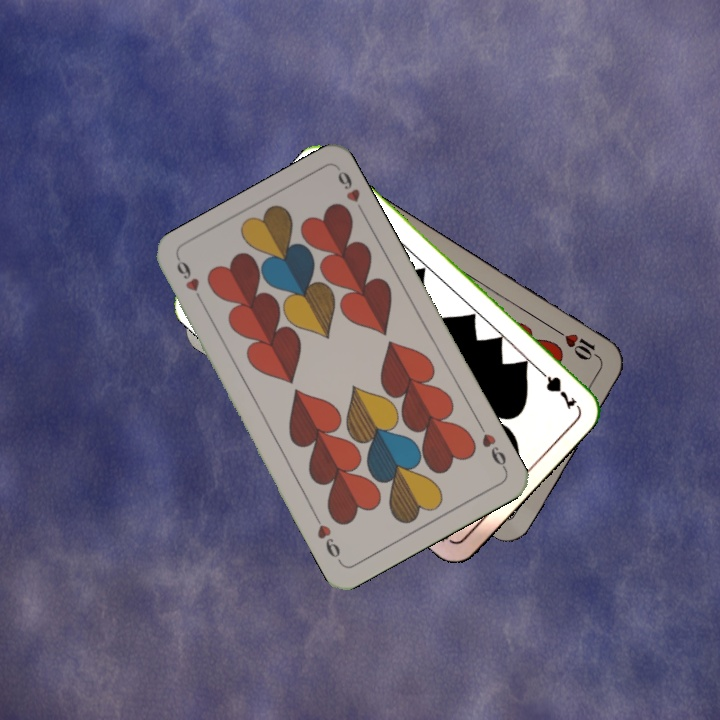G7: (531, 362, 579, 412)
H10: (552, 325, 604, 365)
H9: (172, 255, 208, 310), (474, 420, 510, 474)
